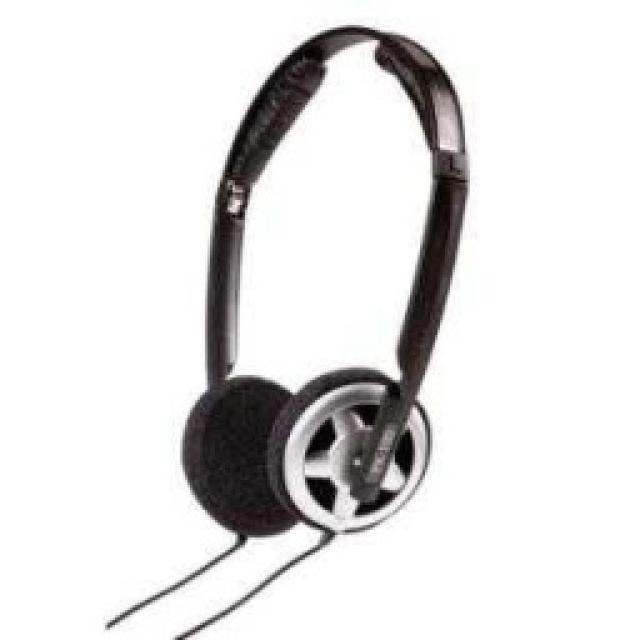headphones: (178, 22, 470, 538)
